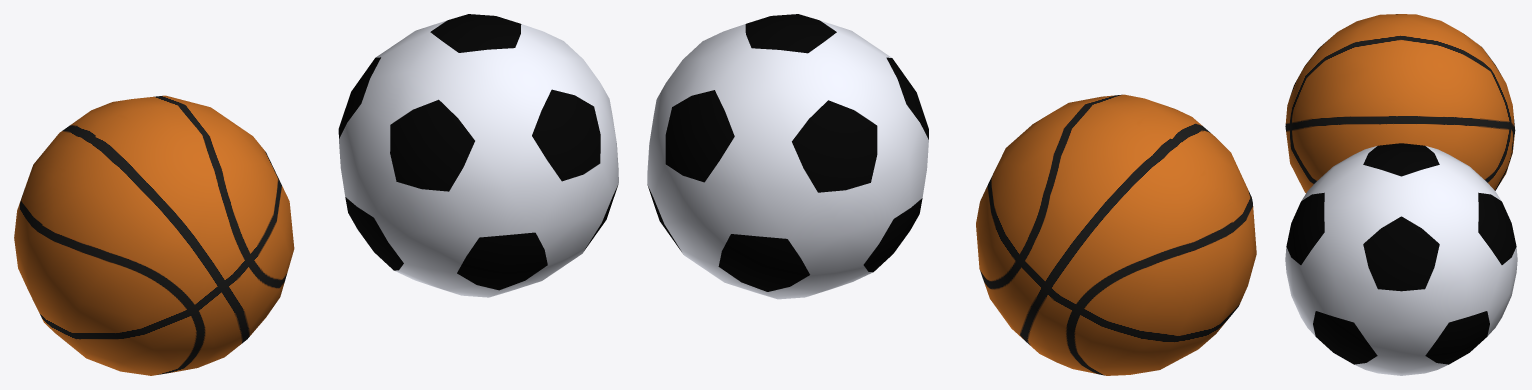
Rendered from balls.fbx.
The picture shows the model from 3 angles, left to right: view 1: azimuth 30°, elevation 25°; view 2: azimuth 150°, elevation 25°; view 3: azimuth 270°, elevation 25°; orthographic projection. The views are drawn at different scales.
Parts seen in each view (by area): view 1: football, basketball; view 2: football, basketball; view 3: football, basketball.
Boxes of the visible parts, bbox=[...] form: football: bbox=[338, 14, 618, 297]; basketball: bbox=[14, 95, 294, 375]; football: bbox=[647, 14, 928, 299]; basketball: bbox=[976, 94, 1256, 375]; football: bbox=[1285, 143, 1517, 375]; basketball: bbox=[1285, 14, 1515, 192].
Size of the model in its own units: 1.35 by 0.5937 by 0.5834.
